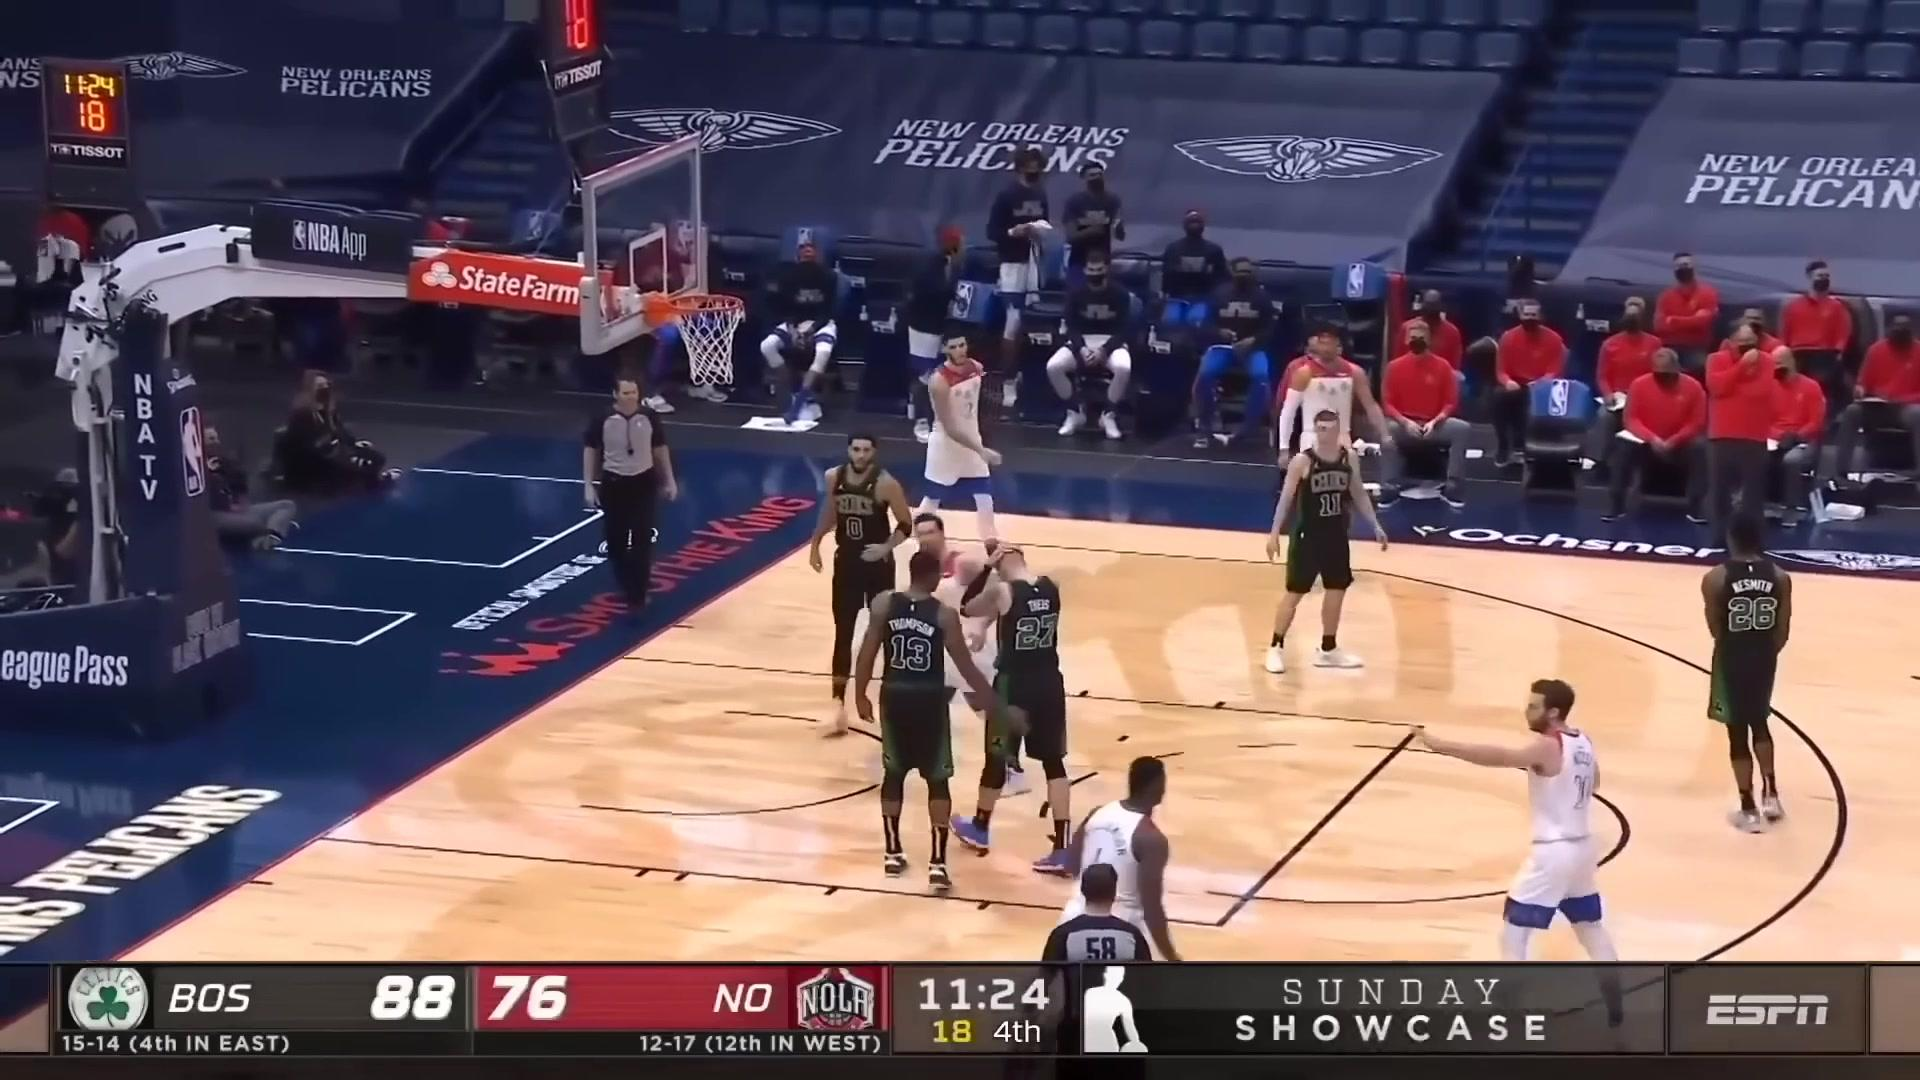no_foul: (844, 495, 1100, 873)
